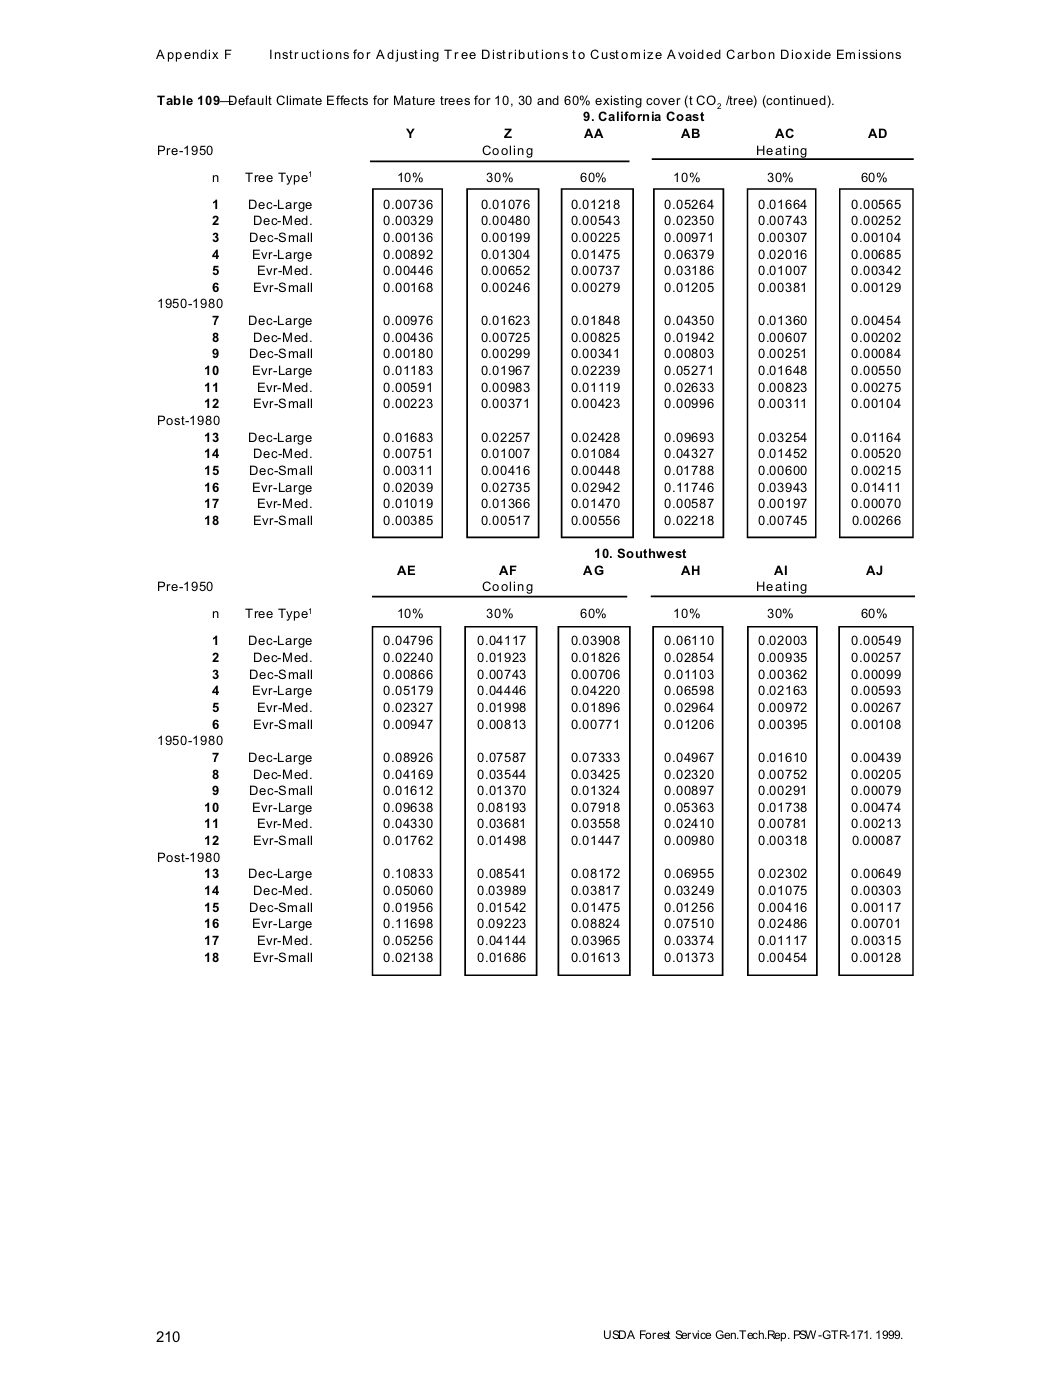Table: (158, 565, 914, 975), (158, 128, 913, 538)
